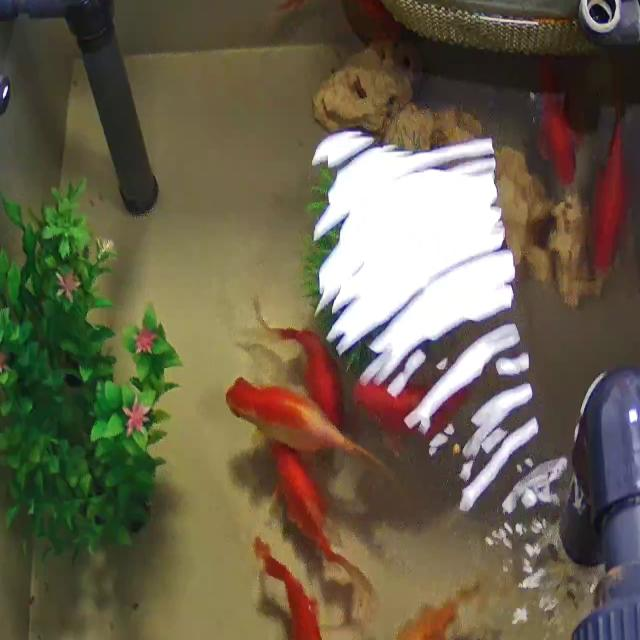fish: (262, 449, 380, 584), (219, 377, 369, 466), (249, 290, 349, 416), (247, 536, 352, 640), (587, 100, 640, 288), (359, 365, 480, 447), (267, 0, 388, 48), (535, 78, 587, 189), (388, 578, 478, 640)
